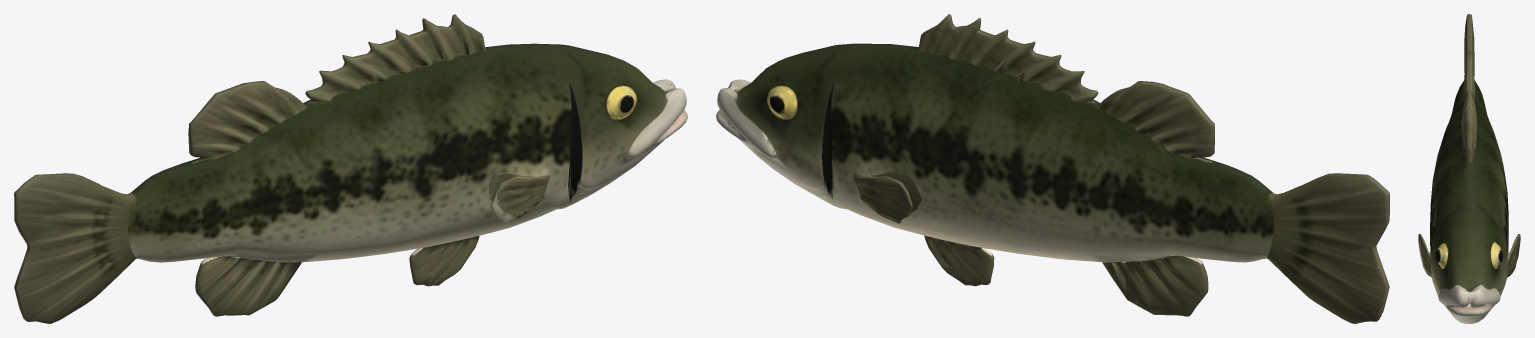
Rendered from largemouth_bass.glb.
The picture shows the model from 3 angles, left to right: view 1: azimuth 30°, elevation 25°; view 2: azimuth 150°, elevation 25°; view 3: azimuth 270°, elevation 25°; orthographic projection. The views are drawn at different scales.
Parts seen in each view (by area): view 1: fish; view 2: fish; view 3: fish.
Boxes of the visible parts, x1,y1,x2,y2 form: fish: [14, 14, 687, 323]; fish: [716, 14, 1389, 323]; fish: [1418, 14, 1520, 323].
Bounding box in the file's own units: 1 × 0.3859 × 0.181.
1 material, 1 textured.
